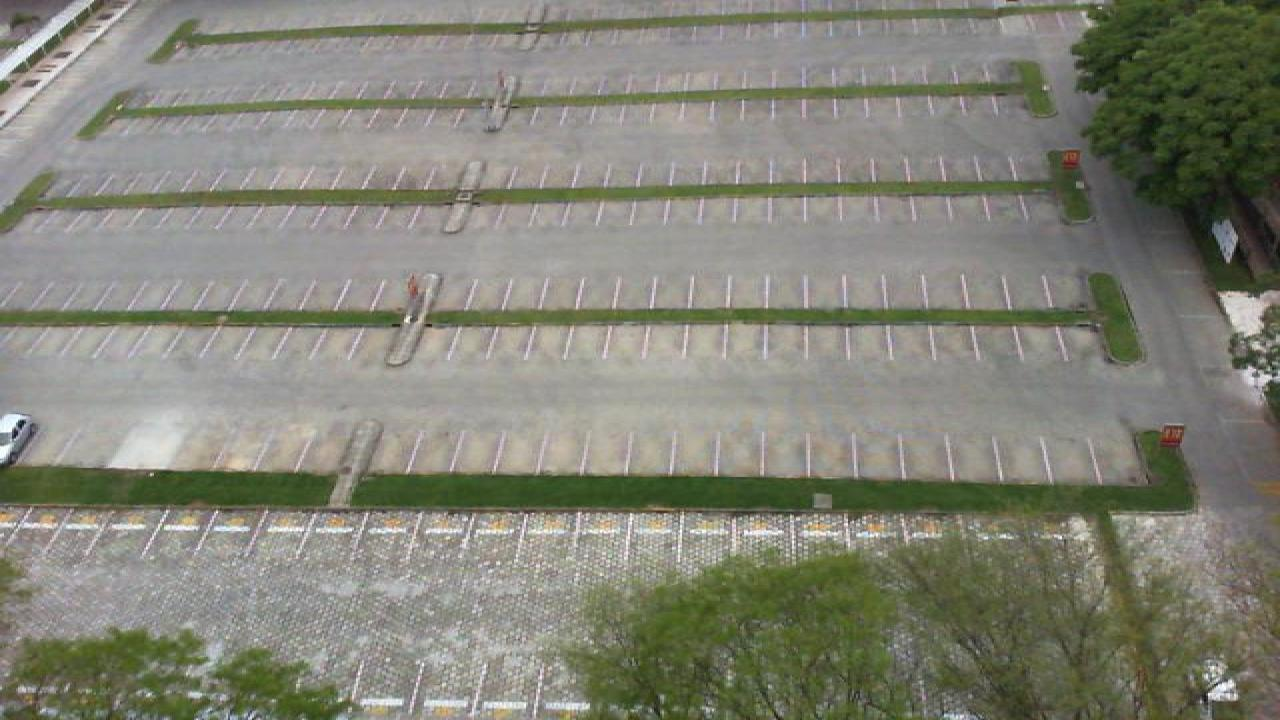Car: (0, 412, 38, 468)
